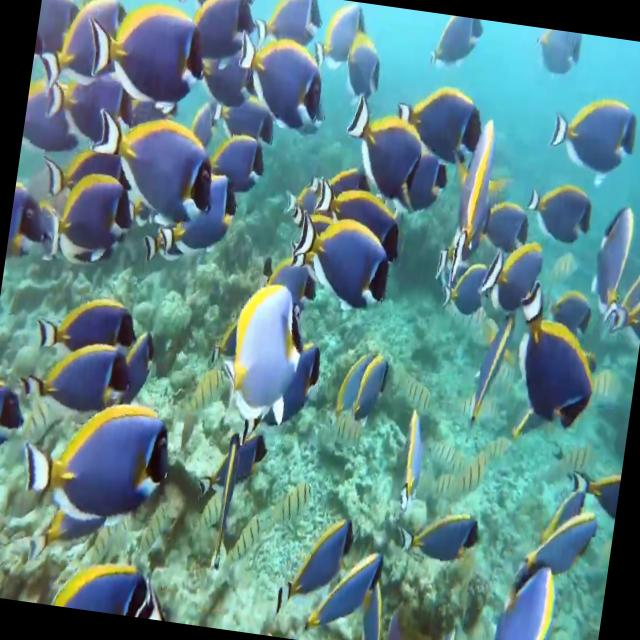fish: (14, 390, 178, 562), (84, 98, 218, 236), (502, 282, 608, 436), (85, 0, 211, 118), (221, 272, 314, 421), (282, 202, 399, 318), (266, 498, 366, 632), (229, 23, 338, 138), (139, 158, 238, 282), (44, 531, 175, 621), (10, 336, 134, 431), (541, 83, 640, 198), (336, 90, 432, 208), (36, 0, 135, 113), (505, 502, 602, 607), (190, 418, 251, 580), (250, 318, 325, 444), (34, 64, 131, 160), (389, 482, 497, 568), (389, 78, 486, 168), (29, 279, 138, 359), (298, 537, 382, 640), (578, 201, 638, 343), (190, 416, 276, 506), (313, 176, 412, 252), (3, 169, 60, 283), (490, 557, 566, 640), (201, 122, 274, 206), (36, 129, 116, 202), (392, 404, 440, 520), (522, 175, 596, 246), (192, 0, 265, 70), (111, 316, 162, 412), (304, 0, 371, 71), (334, 23, 389, 104), (212, 83, 281, 147), (325, 341, 367, 445), (348, 340, 398, 424), (424, 12, 486, 78), (247, 0, 321, 54), (0, 368, 34, 473), (226, 496, 268, 574), (404, 151, 450, 222), (448, 438, 502, 497), (270, 473, 319, 537), (363, 561, 398, 640), (536, 28, 588, 77), (550, 433, 602, 479)
